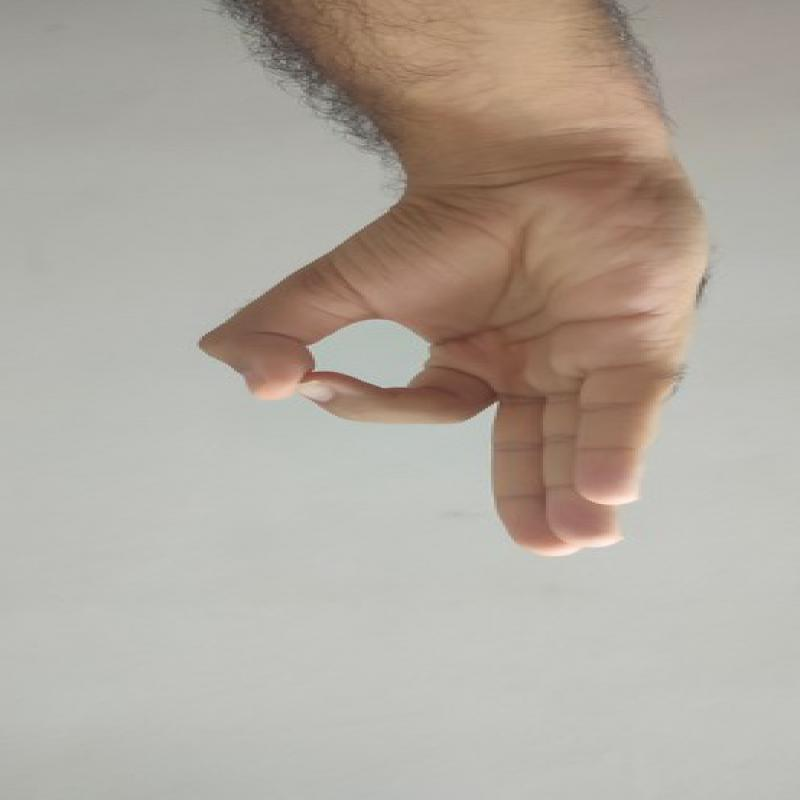Mudraakhyam: (190, 136, 736, 581)
